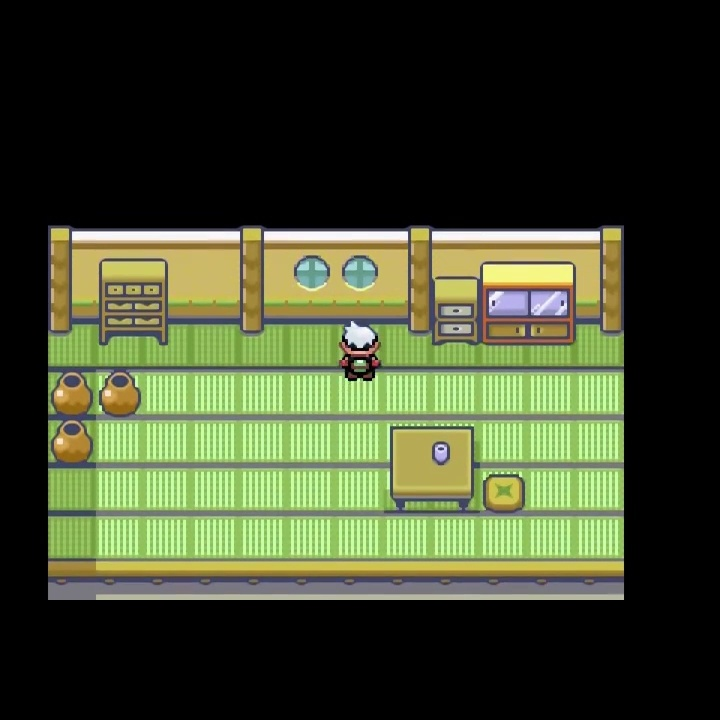agent: (338, 319, 384, 385)
